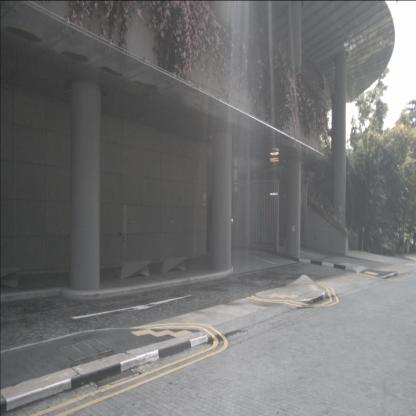human-pedestrian-adult: (411, 228, 416, 254), (399, 230, 404, 254)
